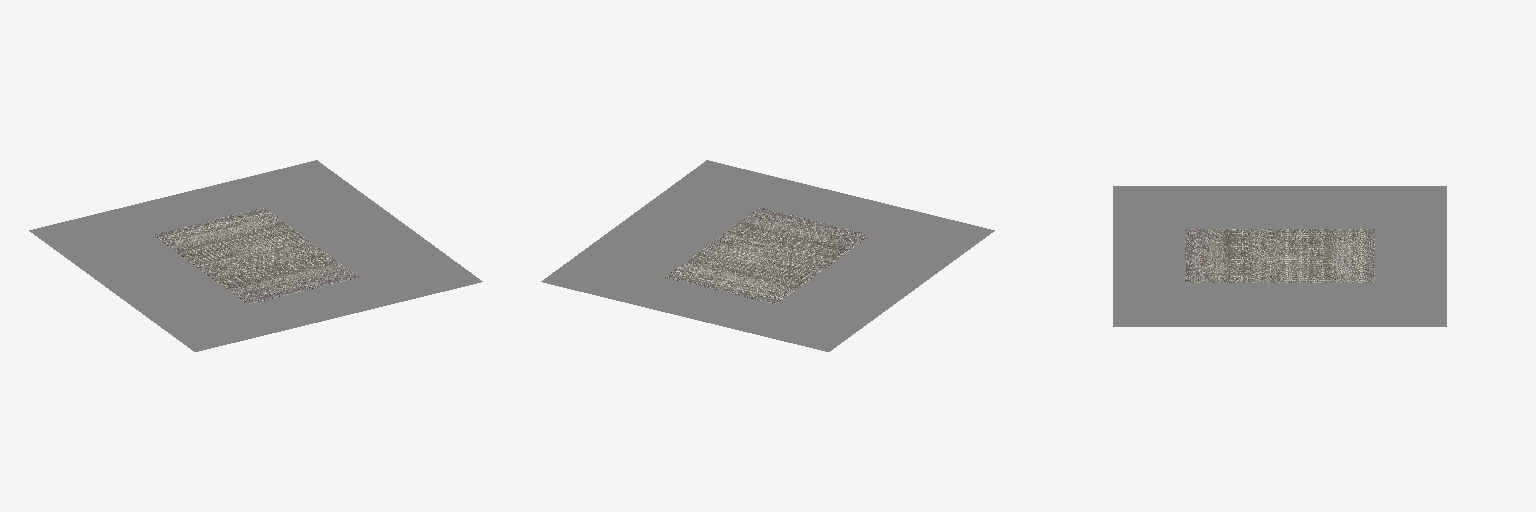
3 views of the same model, side by side, from view 1: azimuth 30°, elevation 25°; view 2: azimuth 150°, elevation 25°; view 3: azimuth 270°, elevation 25° (orthographic).
Parts seen in each view (by area): view 1: shadow_plane_v6, not_clear_obj_1_v6; view 2: shadow_plane_v6, not_clear_obj_1_v6; view 3: shadow_plane_v6, not_clear_obj_1_v6.
Part boxes in pixels (x1,y1,x2,y2): shadow_plane_v6: (29, 160, 482, 351); not_clear_obj_1_v6: (154, 208, 357, 303); shadow_plane_v6: (541, 160, 994, 351); not_clear_obj_1_v6: (666, 208, 869, 303); shadow_plane_v6: (1113, 186, 1446, 326); not_clear_obj_1_v6: (1185, 229, 1374, 282).
Bounding box in the file's own units: 396 × 0.635 × 396.
Materials: 3 (2 with a texture image).